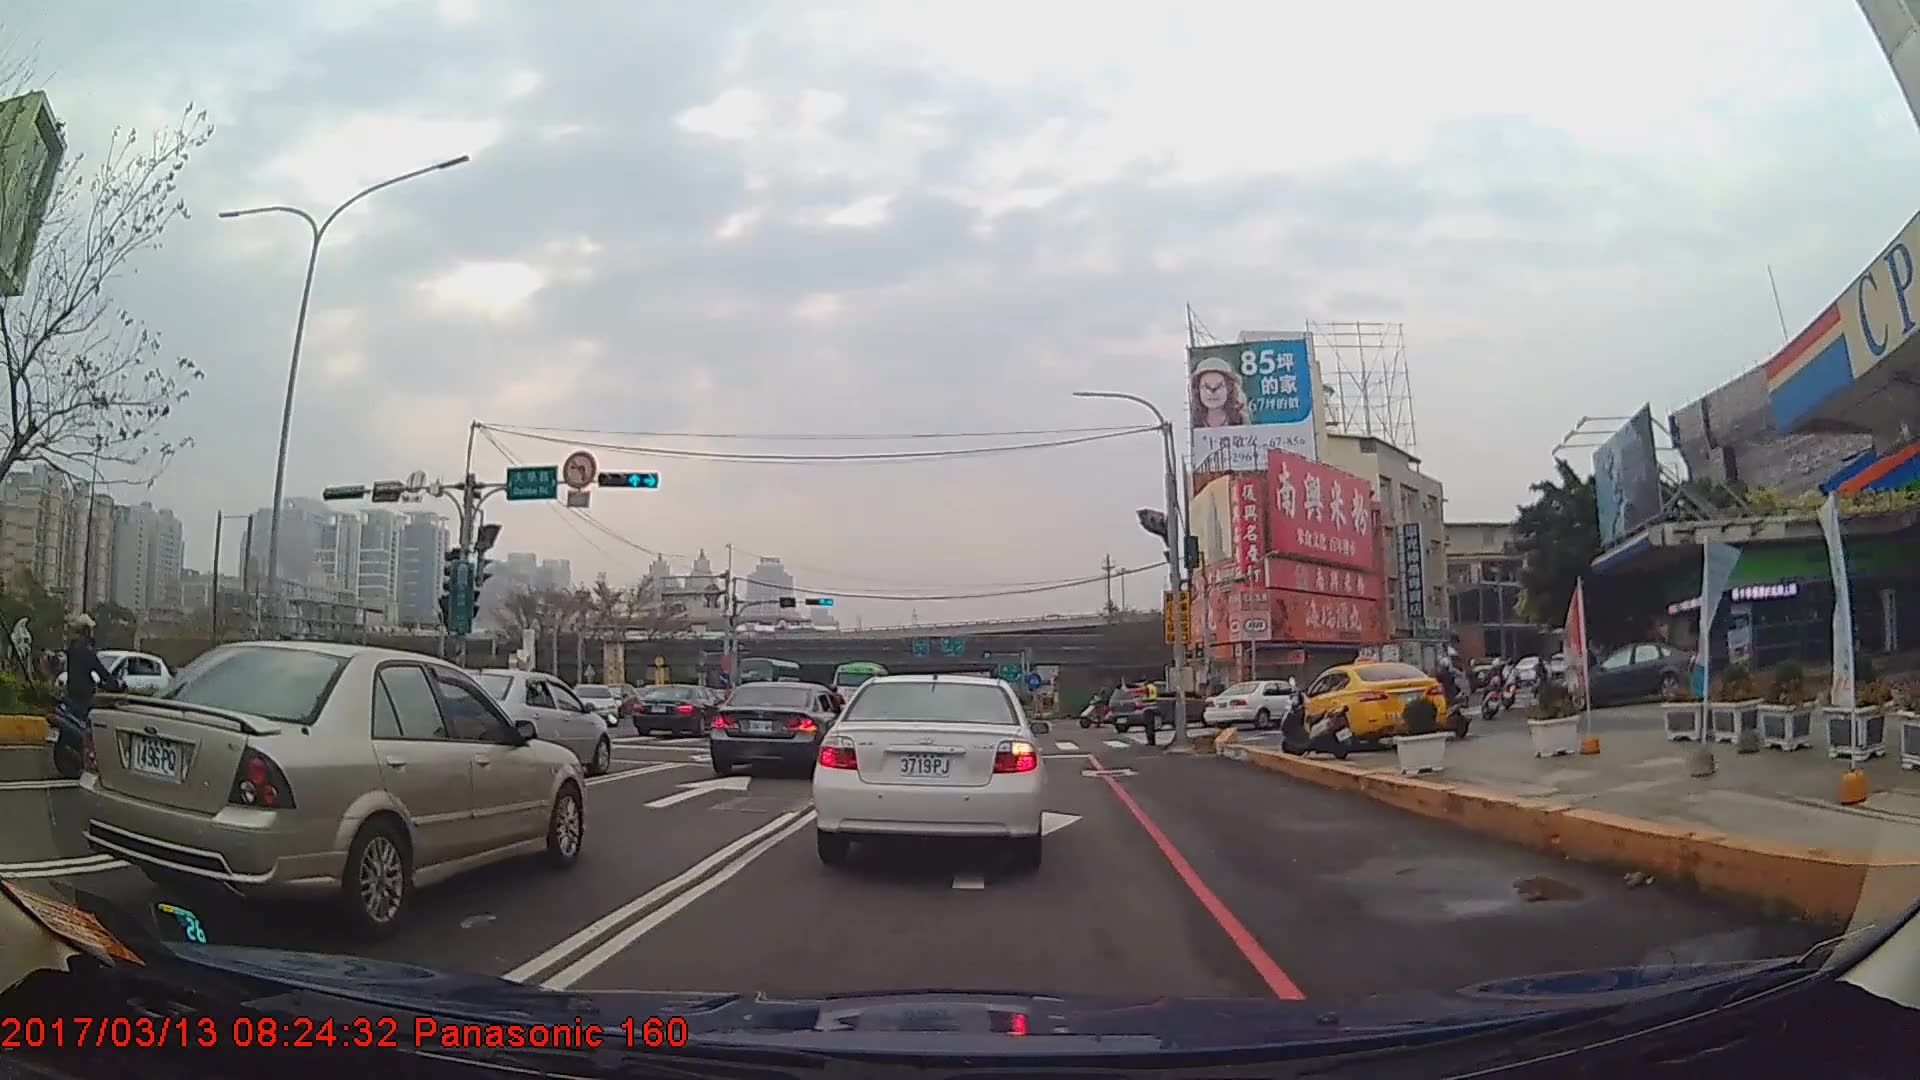pedestrian: (1120, 675, 1162, 749)
rider: (43, 615, 141, 778), (1428, 660, 1471, 741), (1080, 687, 1120, 730), (1482, 658, 1506, 720)
vehicle: (84, 638, 585, 931), (809, 673, 1045, 867), (418, 669, 611, 777), (1290, 660, 1448, 753), (707, 678, 850, 778), (1557, 641, 1703, 708), (1353, 638, 1470, 709), (54, 647, 175, 711), (1107, 679, 1219, 732), (1203, 679, 1312, 730), (632, 685, 726, 739), (831, 658, 891, 714)
